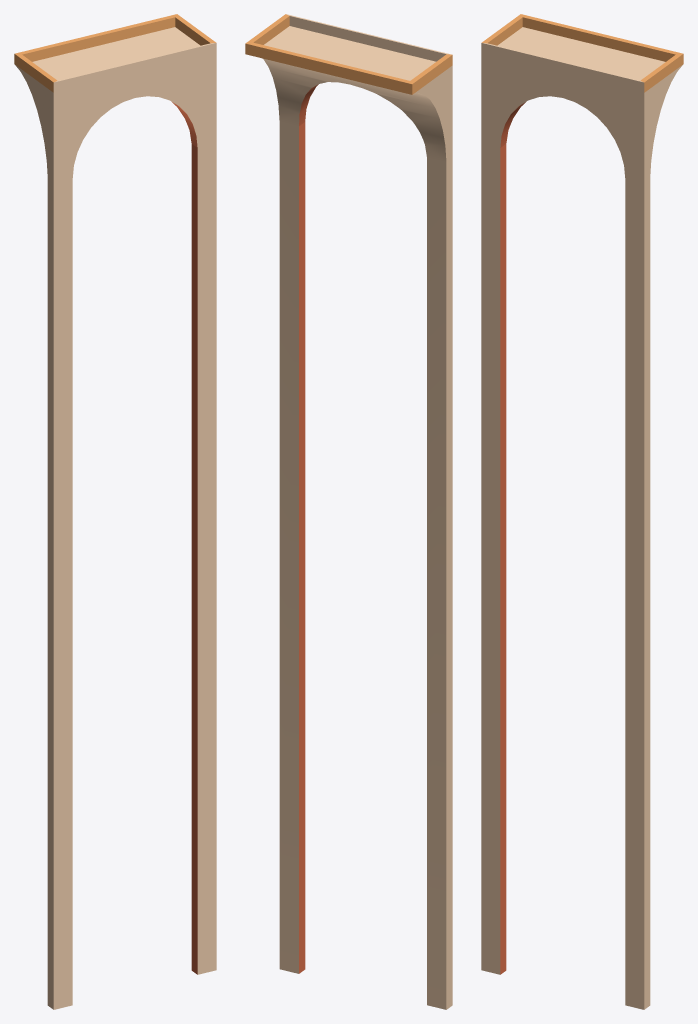
File: Balcony.fbx
3 renders of one model, left to right at view 1: azimuth 30°, elevation 25°; view 2: azimuth 150°, elevation 25°; view 3: azimuth 330°, elevation 25°, orthographic. The views are drawn at different scales.
Parts seen in each view (by area): view 1: Balcony; view 2: Balcony; view 3: Balcony.
Boxes of the visible parts, <box> form: Balcony: <box>14,14,216,1009</box>; Balcony: <box>245,14,452,1009</box>; Balcony: <box>481,14,683,1009</box>.
Bounding box in the file's own units: 942 × 5128 × 395.
